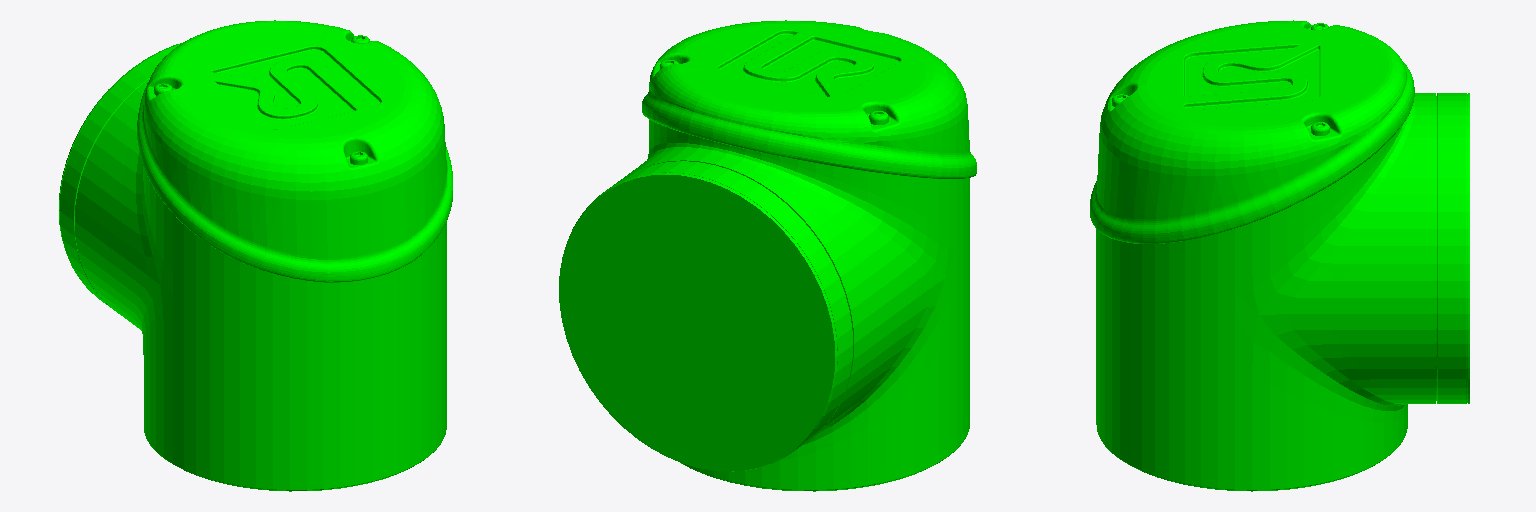
URDF robot description (ur3e):
<?xml version="1.0" ?>
<robot name="ur3e" xmlns:drake="https://drake.mit.edu">
  <link name="ur_base_link">
    <visual>
      <origin rpy="0 0 0" xyz="0.0 0.0 0.0"/>
      <geometry>
        <mesh filename="base.obj"/>
      </geometry>
      <material name="NoTextureGreen"> <!-- Use referenced .mtl file with the same name. -->
        <color rgba="0.0 1.0 0.0 1.0"/>
      </material>
    </visual>
    <inertial>
      <mass value="2.0"/>
      <origin rpy="0 0 0" xyz="0.0 0.0 0.0"/>
      <inertia ixx="0.0030531654454" ixy="0.0" ixz="0.0" iyy="0.0030531654454" iyz="0.0" izz="0.005625"/>
    </inertial>
  </link>
  <joint name="ur_shoulder_pan_joint" type="revolute">
    <parent link="ur_base_link"/>
    <child link="ur_shoulder_link"/>
    <origin rpy="0.0 0.0 0.0" xyz="0.0 0.0 0.152"/>
    <axis xyz="0 0 1"/>
    <limit drake:acceleration="2.5" effort="330.0" lower="0" upper="3.141592653589793" velocity="3.14"/>
    <dynamics damping="0.0" friction="0.0"/>
  </joint>
  <link name="ur_shoulder_link">
    <visual>
      <origin rpy="0 0 0" xyz="0.0 0.0 0.0"/>
      <geometry>
        <mesh filename="shoulder.obj"/>
      </geometry>
      <material name="NoTextureGreen"> <!-- Use referenced .mtl file with a different name. -->
        <color rgba="0.0 1.0 0.0 1.0"/>
      </material>
    </visual>
    <inertial>
      <mass value="2.0"/>
      <origin rpy="0 0 0" xyz="0.0 0.0 0.0"/>
      <inertia ixx="0.008093163429399999" ixy="0.0" ixz="0.0" iyy="0.008093163429399999" iyz="0.0" izz="0.005625"/>
    </inertial>
  </link>
  <joint name="ur_shoulder_lift_joint" type="revolute">
    <parent link="ur_shoulder_link"/>
    <child link="ur_upper_arm_link"/>
    <origin rpy="0.0 1.5707963267948966 0.0" xyz="0.0 0.12 0.0"/>
    <axis xyz="0 1 0"/>
    <limit drake:acceleration="2.5" effort="330.0" lower="-2.356194490192345" upper="1.5707963267948966" velocity="3.14"/>
    <dynamics damping="0.0" friction="0.0"/>
  </joint>
  <link name="ur_upper_arm_link">
    <visual>
      <origin rpy="0 0 0" xyz="0.0 0.0 0.0"/>
      <geometry>
        <mesh filename="upperarm.obj"/>
      </geometry>
      <material name="TextureRed"> <!-- No associated .mtl file. Use color texture. -->
        <color rgba="1.0 0.0 0.0 1.0"/>
      </material>
    </visual>
    <inertial>
      <mass value="3.42"/>
      <origin rpy="0 0 0" xyz="0.0 0.0 0.122"/>
      <inertia ixx="0.021777126289145996" ixy="0.0" ixz="0.0" iyy="0.021777126289145996" iyz="0.0" izz="0.00961875"/>
    </inertial>
  </link>
  <joint name="ur_elbow_joint" type="revolute">
    <parent link="ur_upper_arm_link"/>
    <child link="ur_forearm_link"/>
    <origin rpy="0.0 0.0 0.0" xyz="0.0 -0.093 0.244"/>
    <axis xyz="0 1 0"/>
    <limit drake:acceleration="2.5" effort="150.0" lower="-3.141592653589793" upper="3.141592653589793" velocity="3.14"/>
    <dynamics damping="0.0" friction="0.0"/>
  </joint>
  <link name="ur_forearm_link">
    <visual>
      <origin rpy="0 0 0" xyz="0.0 0.0 0.0"/>
      <geometry>
        <mesh filename="forearm.obj"/>
      </geometry>
      <material> <!-- No associated .mtl file but specify a texture. -->
        <texture filename="ur3e_color.png"/>
      </material>
    </visual>
    <inertial>
      <mass value="1.26"/>
      <origin rpy="0 0 0" xyz="0.0 0.0 0.1065"/>
      <inertia ixx="0.006535617385751999" ixy="0.0" ixz="0.0" iyy="0.006535617385751999" iyz="0.0" izz="0.00354375"/>
    </inertial>
  </link>
  <joint name="ur_wrist_1_joint" type="revolute">
    <parent link="ur_forearm_link"/>
    <child link="ur_wrist_1_link"/>
    <origin rpy="0.0 1.5707963267948966 0.0" xyz="0.0 0.0 0.213"/>
    <axis xyz="0 1 0"/>
    <limit drake:acceleration="2.5" effort="54.0" lower="-3.141592653589793" upper="3.141592653589793" velocity="6.28"/>
    <dynamics damping="0.0" friction="0.0"/>
  </joint>
  <link name="ur_wrist_1_link">
    <visual>
      <origin rpy="0 0 0" xyz="0.0 0.0 0.0"/>
      <geometry>
        <mesh filename="wrist1.obj"/>
      </geometry>
      <material name="NoTextureGreen"> <!-- No associated .mtl file but wrist1.png exists. -->
        <color rgba="0.0 1.0 0.0 1.0"/>
      </material>
    </visual>
    <inertial>
      <mass value="0.8"/>
      <origin rpy="0 0 0" xyz="0.0 0.104 0.0"/>
      <inertia ixx="0.002084999166" ixy="0.0" ixz="0.0" iyy="0.002084999166" iyz="0.0" izz="0.00225"/>
    </inertial>
  </link>
</robot>

--- Render facts (derived) ---
Views: 3 orthographic renders of the robot side by side, from view 1: azimuth 30°, elevation 25°; view 2: azimuth 150°, elevation 25°; view 3: azimuth 270°, elevation 25°.
Robot: ur3e — 5 links, 4 joints (4 revolute); root link ur_base_link; default pose: all joints at 0.
Visible links, largest first — view 1: ur_shoulder_link; view 2: ur_shoulder_link; view 3: ur_shoulder_link.
Boxes of the visible links, x1,y1,x2,y2 form: ur_shoulder_link: [59, 20, 452, 491]; ur_shoulder_link: [559, 20, 976, 491]; ur_shoulder_link: [1090, 20, 1469, 491].
Bounding box of the posed robot: 0.0938 × 0.1099 × 0.1151 m (x, y, z).
Meshes: 5 distinct files referenced, 1 mesh visuals loaded (1 OBJ); not drawn: 4 (reference not matched to a file when rendering).